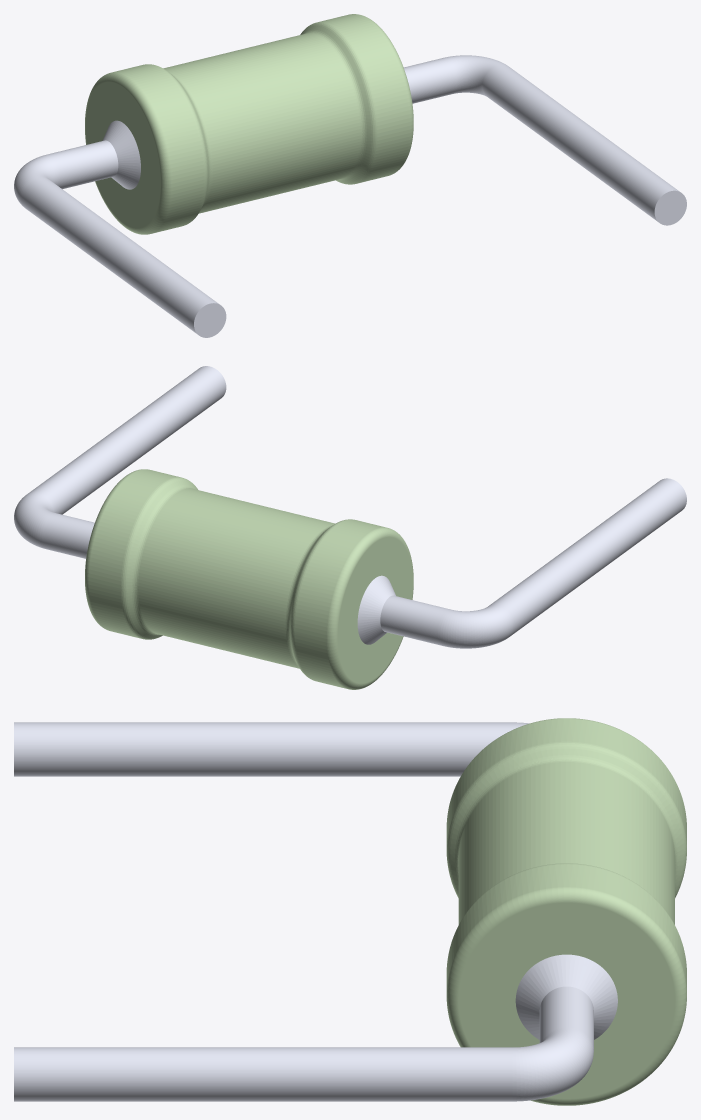
3 views of the same model, one above another, from view 1: azimuth 30°, elevation 25°; view 2: azimuth 150°, elevation 25°; view 3: azimuth 270°, elevation 25° (orthographic). The views are drawn at different scales.
Parts seen in each view (by area): view 1: Node1, Node2; view 2: Node1, Node2; view 3: Node1, Node2.
Part boxes in pixels (<box>): Node1: <box>85,14,413,234</box>; Node2: <box>14,55,686,337</box>; Node1: <box>85,469,413,689</box>; Node2: <box>14,366,686,648</box>; Node1: <box>446,718,686,1105</box>; Node2: <box>14,722,617,1101</box>.
Bounding box in the file's own units: 6.85 × 2 × 5.6.
